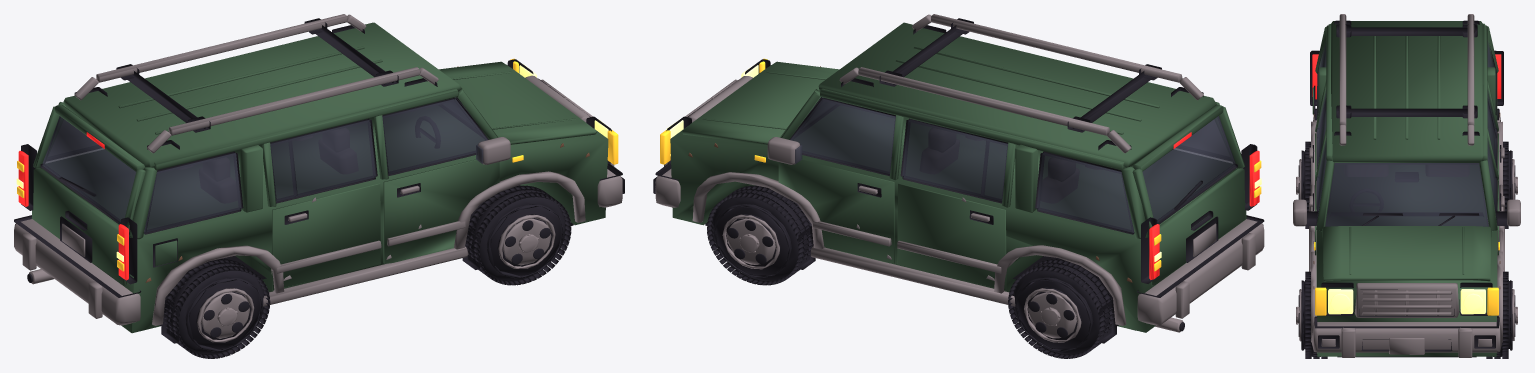
3 renders of one model, left to right at view 1: azimuth 30°, elevation 25°; view 2: azimuth 150°, elevation 25°; view 3: azimuth 270°, elevation 25°, orthographic. The views are drawn at different scales.
Parts seen in each view (by area): view 1: body, object 8, wheelFL, wheelRL, lightsBrake, lightsFront; view 2: body, object 8, wheelFR, wheelRR, lightsBrake, lightsFront; view 3: body, object 8, lightsFront, wheelFL, wheelFR, wheelRL, wheelRR, lightsBrake.
Part boxes in pixels (x1,y1,x2,y2): body: [14, 14, 624, 343]; object 8: [33, 97, 510, 290]; wheelFL: [465, 185, 571, 285]; wheelRL: [164, 259, 270, 358]; lightsBrake: [16, 132, 128, 280]; lightsFront: [510, 58, 618, 164]; body: [653, 14, 1264, 343]; object 8: [767, 98, 1244, 290]; wheelFR: [707, 185, 812, 285]; wheelRR: [1008, 259, 1113, 358]; lightsBrake: [1149, 132, 1261, 279]; lightsFront: [660, 58, 767, 164]; body: [1305, 14, 1508, 357]; object 8: [1293, 23, 1520, 269]; lightsFront: [1314, 242, 1499, 315]; wheelFL: [1296, 271, 1327, 358]; wheelFR: [1486, 271, 1517, 358]; wheelRL: [1296, 141, 1310, 228]; wheelRR: [1503, 141, 1517, 228]; lightsBrake: [1312, 54, 1501, 99].
Bounding box in the file's own units: 4.42 × 1.8 × 1.9.
